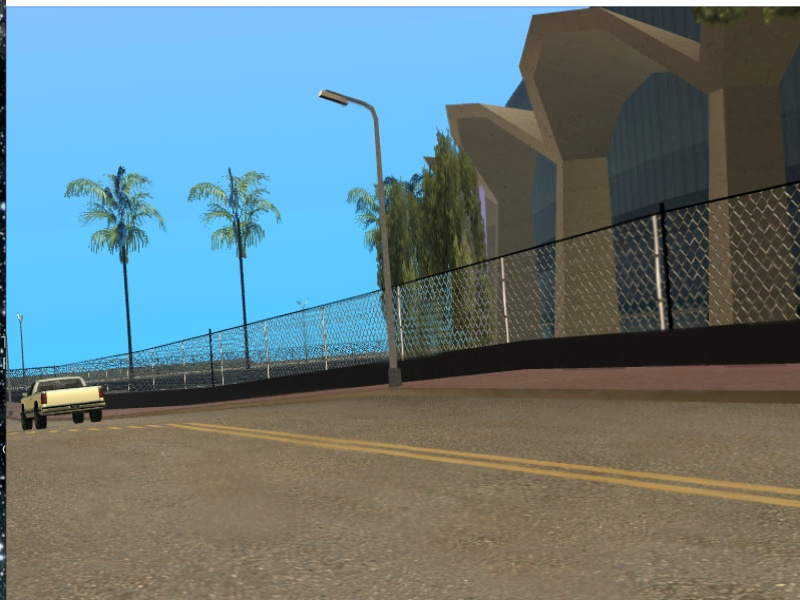pole: (368, 105, 416, 397)
vehicle: (20, 372, 108, 428)
